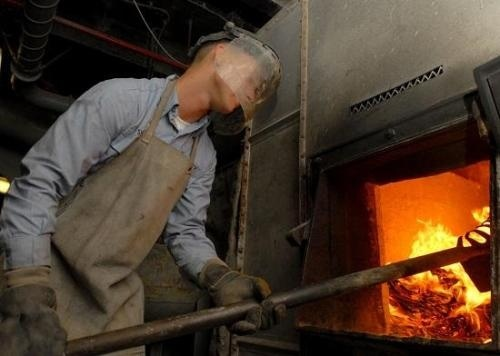fire: (380, 263, 495, 341), (405, 199, 491, 257)
